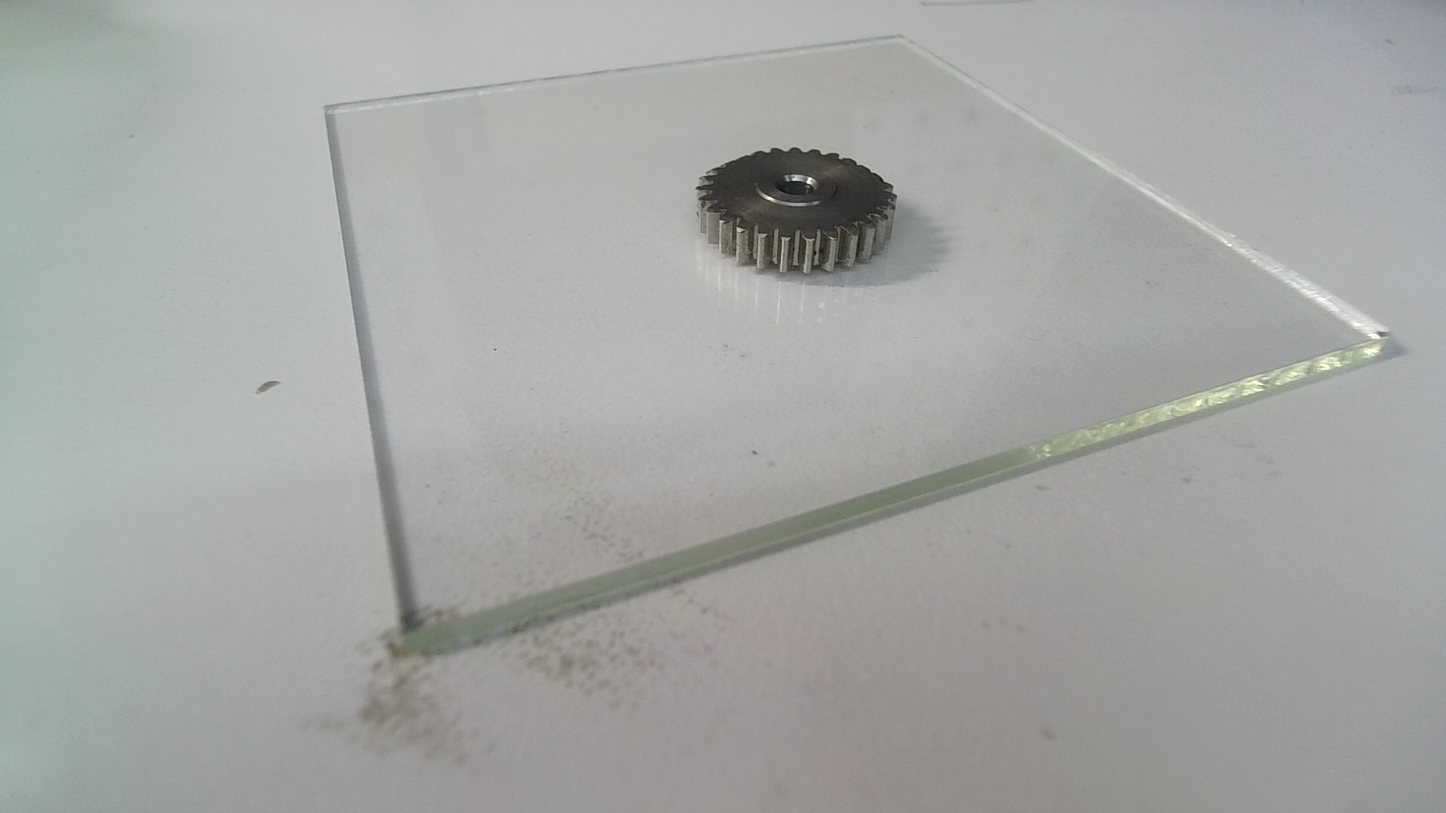gear: (695, 147, 902, 279)
